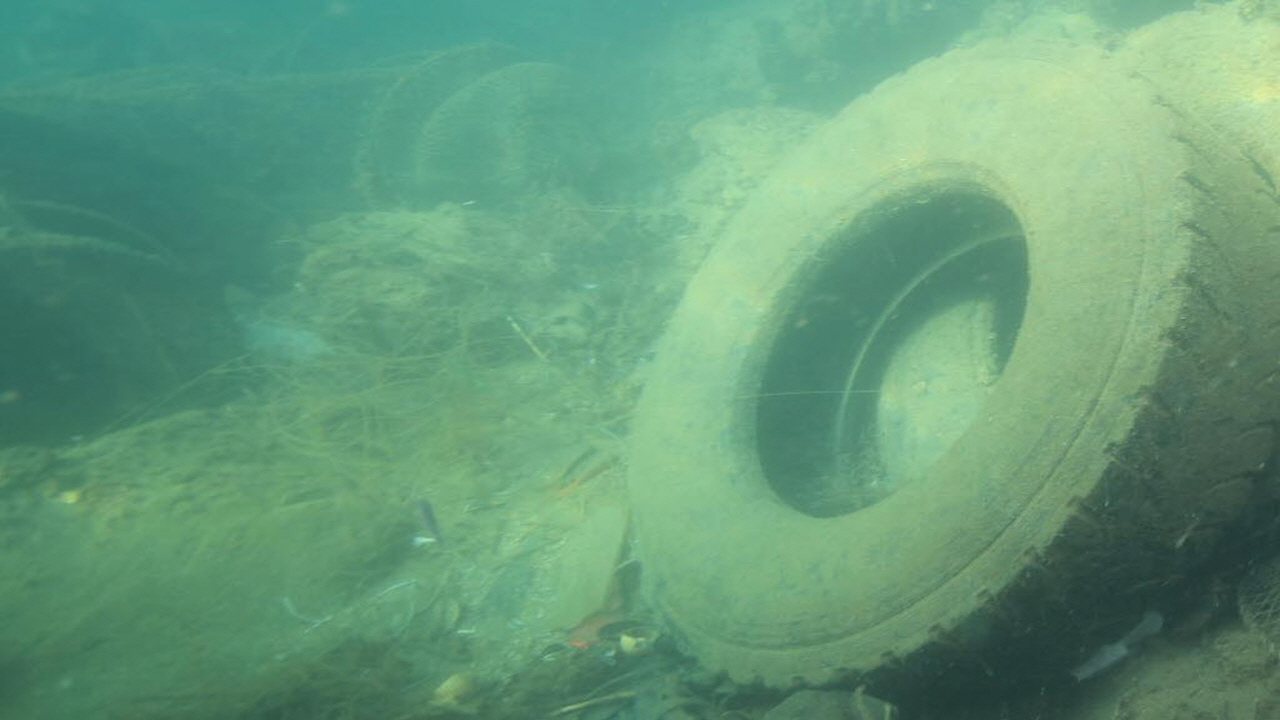tire: (625, 39, 1280, 690)
